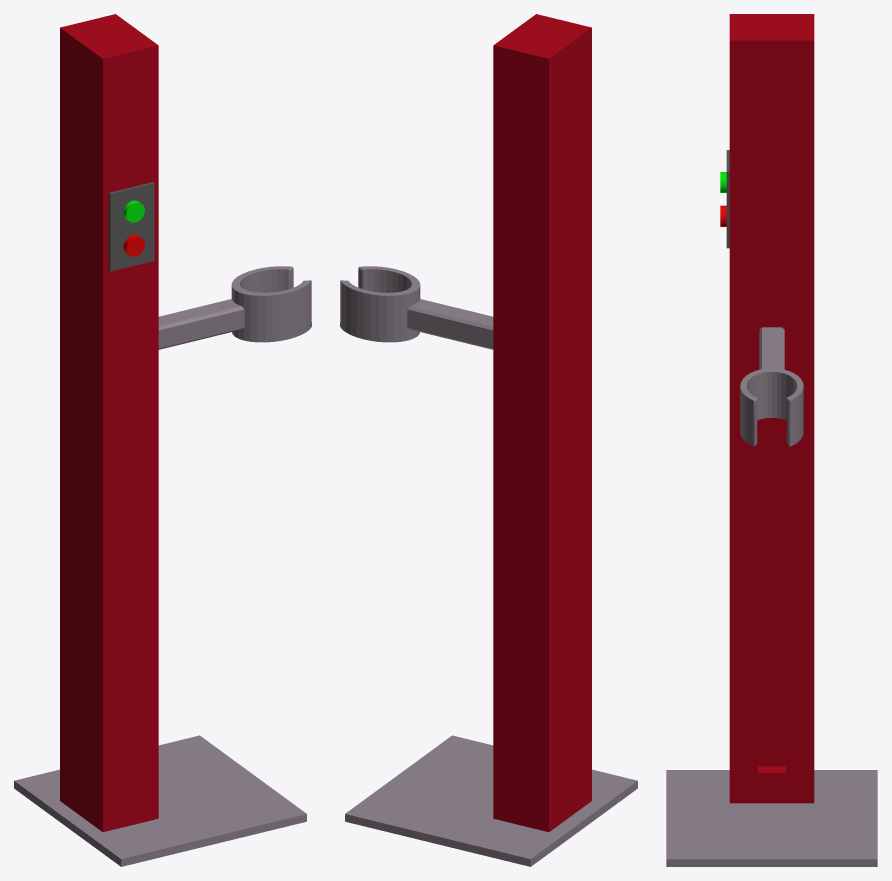
Rendered from fahrrad-werkstatt-halter.fbx.
3 renders of one model, left to right at view 1: azimuth 30°, elevation 25°; view 2: azimuth 150°, elevation 25°; view 3: azimuth 270°, elevation 25°, orthographic.
Parts seen in each view (by area): view 1: staender, fahrad_werkstatt_halter, zwinge, Steuerung, greifarm; view 2: staender, fahrad_werkstatt_halter, zwinge, greifarm; view 3: staender, fahrad_werkstatt_halter, zwinge, greifarm.
Boxes of the visible parts, x1=… form: staender: x1=60, y1=14, x2=158, y2=832; fahrad_werkstatt_halter: x1=14, y1=735, x2=306, y2=866; zwinge: x1=231, y1=266, x2=311, y2=342; Steuerung: x1=108, y1=182, x2=154, y2=271; greifarm: x1=158, y1=299, x2=244, y2=349; staender: x1=493, y1=14, x2=591, y2=832; fahrad_werkstatt_halter: x1=345, y1=735, x2=637, y2=866; zwinge: x1=340, y1=266, x2=420, y2=342; greifarm: x1=407, y1=299, x2=493, y2=349; staender: x1=729, y1=14, x2=814, y2=803; fahrad_werkstatt_halter: x1=666, y1=770, x2=877, y2=866; zwinge: x1=740, y1=368, x2=803, y2=446; greifarm: x1=759, y1=327, x2=784, y2=369.
Size of the model in its own units: 50 by 201 by 63.35.
